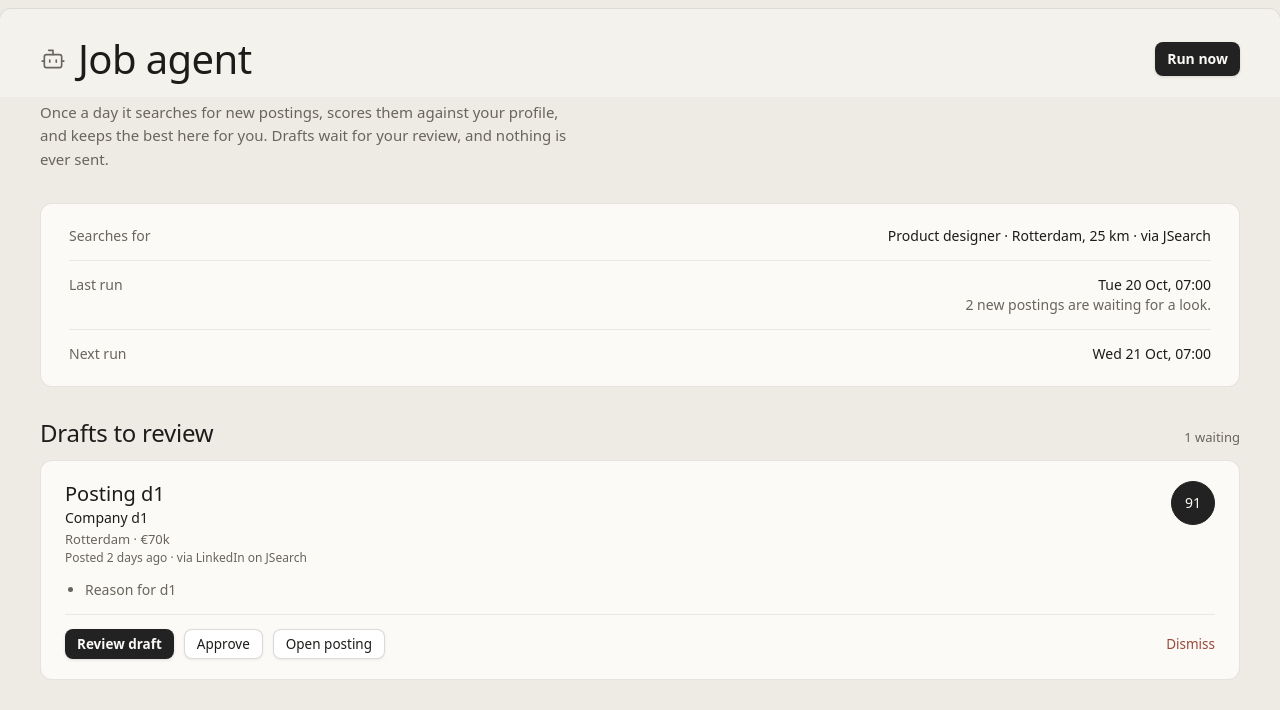
Test case: AgentScreen (E16-6) › runs now on request
The width and height of the screenshot is (1280, 710).
Click the button "Run now" at (1198, 59), box x1=1155 y1=42 x2=1240 y2=76
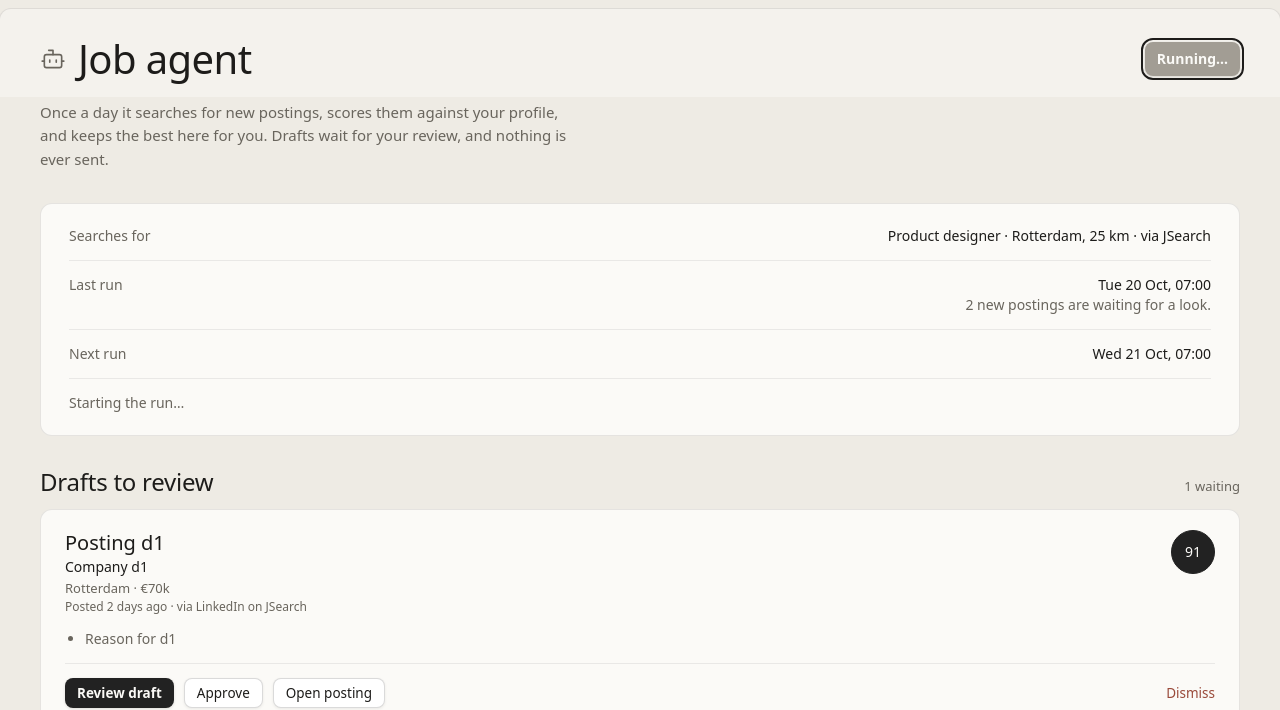
Expected: the button "Running…" is shown, x1=1145 y1=42 x2=1240 y2=76
Expected: the message reads "Starting the run…", x1=69 y1=393 x2=184 y2=412
